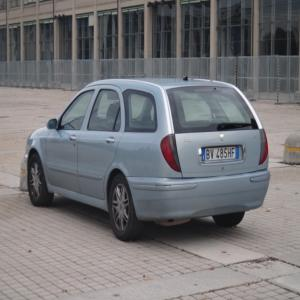Vehicle-registration-plate: (203, 148, 240, 162)
